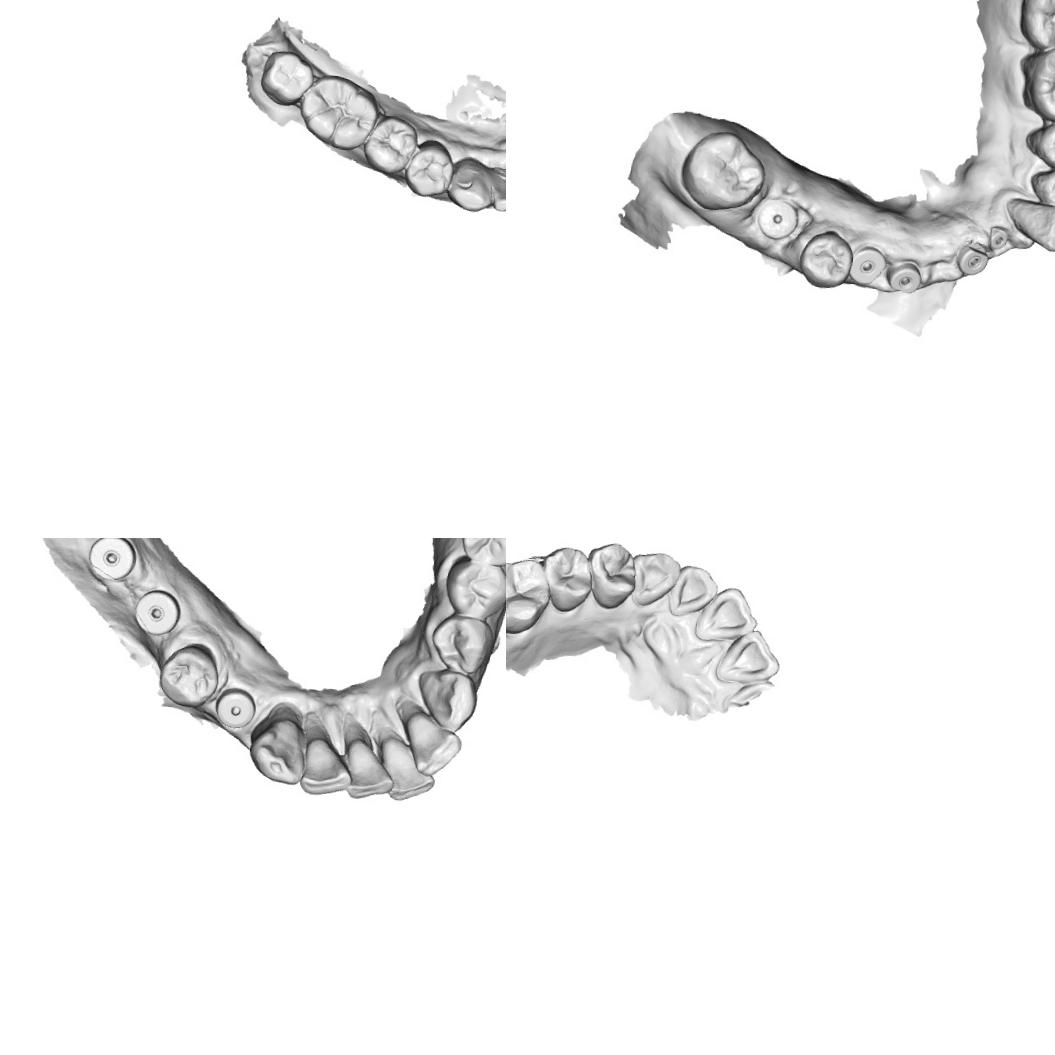canine: (246, 712, 310, 786), (412, 666, 480, 734), (626, 548, 682, 611), (444, 154, 496, 214), (1002, 195, 1055, 253)
implant: (87, 538, 138, 585), (753, 195, 802, 243), (134, 586, 178, 636), (846, 243, 888, 287), (884, 256, 924, 296), (216, 686, 252, 728), (952, 239, 990, 277), (986, 224, 1009, 250)
incisor: (690, 582, 762, 647), (712, 624, 785, 687), (399, 710, 464, 780), (378, 734, 440, 804), (337, 737, 396, 802), (665, 561, 722, 620), (298, 738, 352, 799), (489, 168, 506, 214)
molar: (677, 125, 769, 215), (295, 70, 382, 154), (506, 552, 554, 638), (258, 47, 318, 108), (1018, 44, 1055, 123), (1016, 0, 1055, 52), (458, 538, 506, 570)
premolar: (154, 638, 222, 710), (442, 553, 506, 623), (428, 613, 497, 676), (537, 542, 594, 616), (582, 539, 637, 612), (796, 226, 856, 292), (360, 112, 419, 176), (402, 142, 454, 199), (1022, 117, 1055, 171), (1026, 164, 1055, 218)
